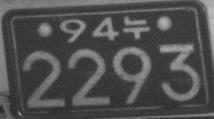2: (21, 49, 66, 108), (67, 47, 110, 106)
3: (158, 42, 201, 102)
4: (91, 16, 119, 40)
9: (111, 45, 152, 104), (59, 17, 87, 43)
누: (122, 15, 149, 39)
